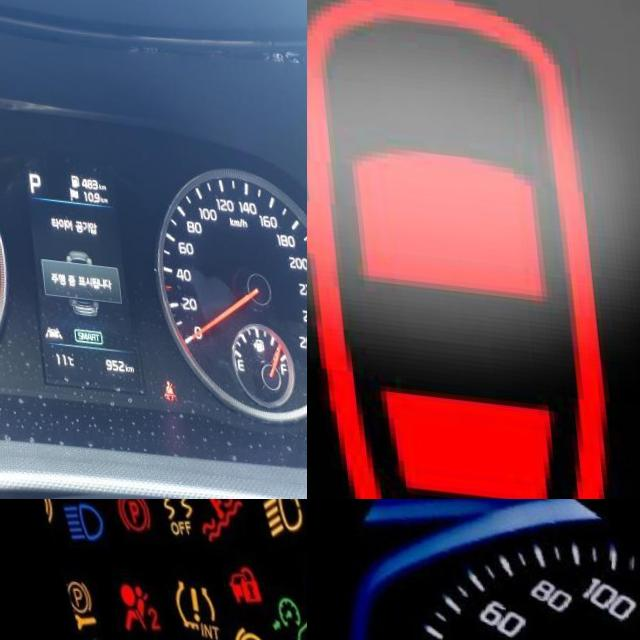Engine cooling system: (177, 499, 240, 539)
LaneCenteringOff: (35, 317, 53, 332)
